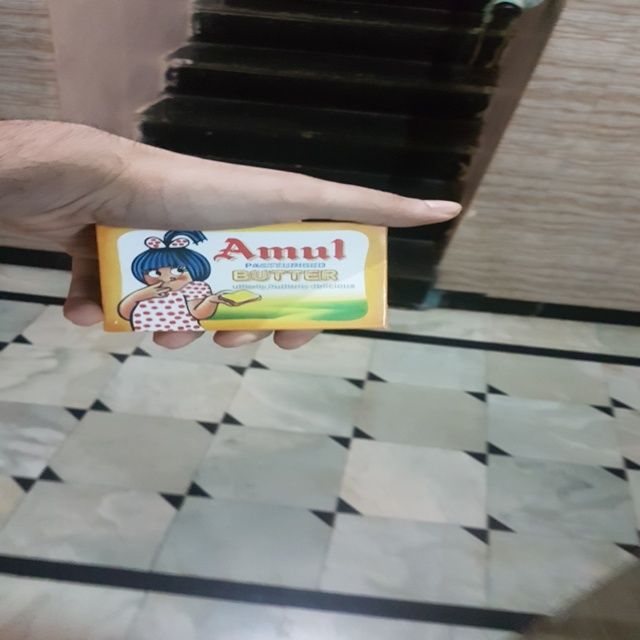butter: (79, 218, 415, 349)
